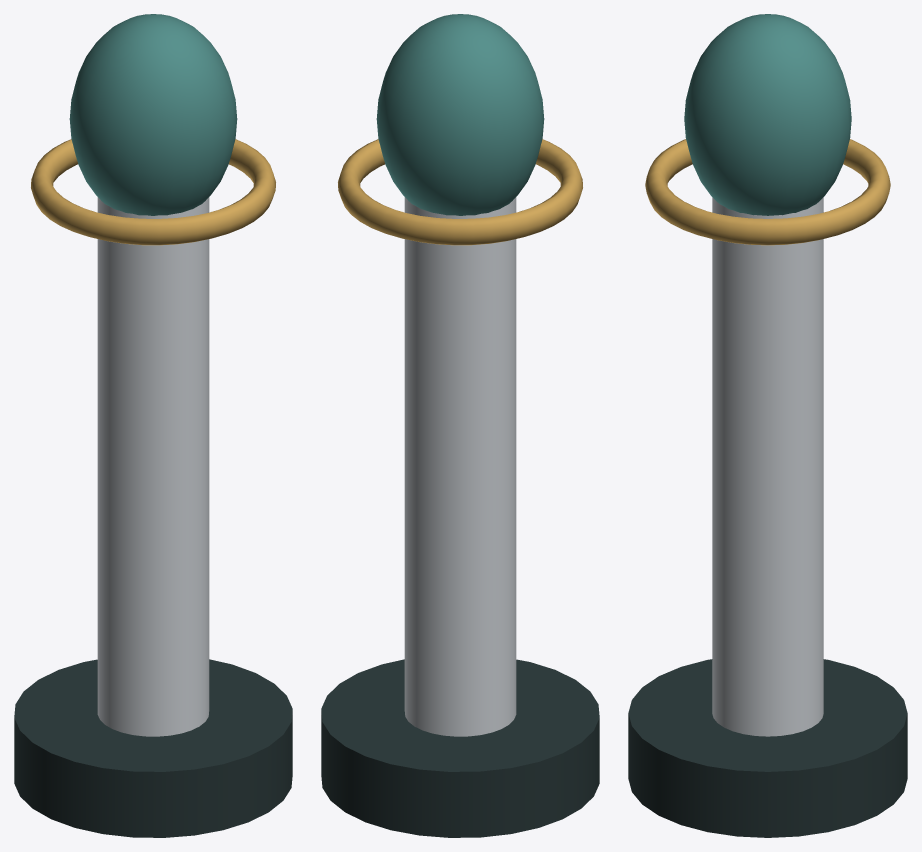
Rendered from wp-balise-de-checkpoint.glb.
3 views of the same model, side by side, from view 1: azimuth 30°, elevation 25°; view 2: azimuth 150°, elevation 25°; view 3: azimuth 270°, elevation 25° (orthographic).
Visible parts, largest first — view 1: wp-balise-de-checkpoint; view 2: wp-balise-de-checkpoint; view 3: wp-balise-de-checkpoint.
Boxes of the visible parts, <box> form: wp-balise-de-checkpoint: <box>14,14,292,837</box>; wp-balise-de-checkpoint: <box>321,14,599,837</box>; wp-balise-de-checkpoint: <box>628,14,907,837</box>.
Size of the model in its own units: 0.4 by 1.2 by 0.4.
